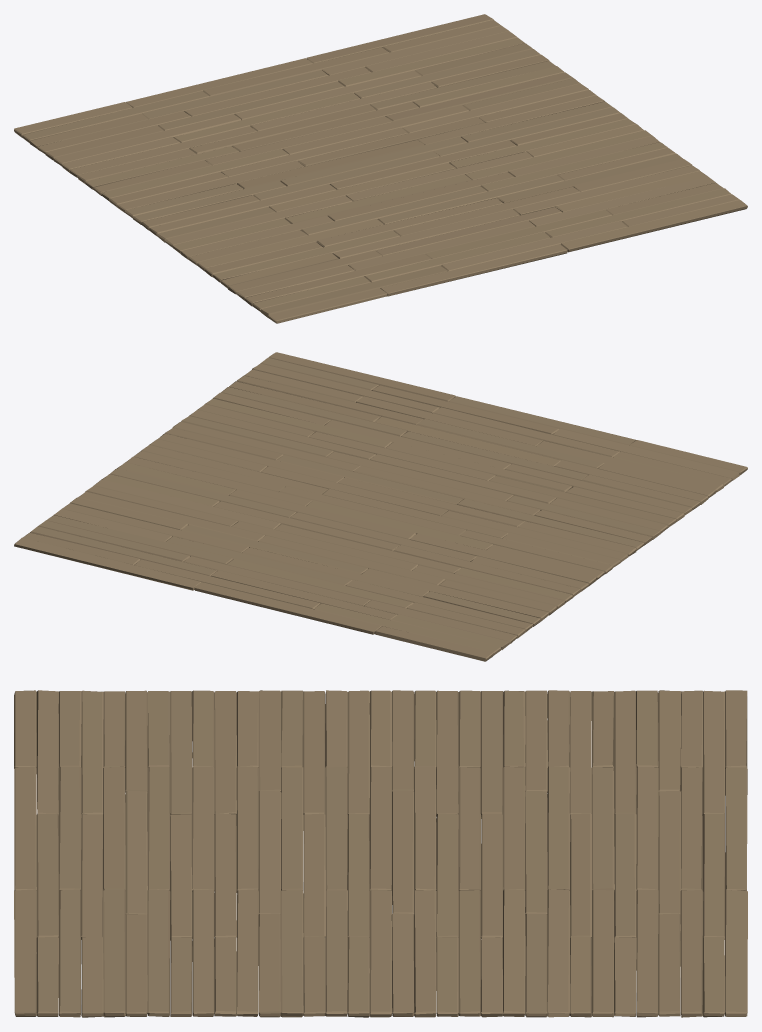
Rendered from floor.glb.
3 renders of one model, top to bottom at view 1: azimuth 30°, elevation 25°; view 2: azimuth 150°, elevation 25°; view 3: azimuth 270°, elevation 25°, orthographic. The views are drawn at different scales.
Visible parts, largest first — view 1: Floor; view 2: Floor; view 3: Floor.
Boxes of the visible parts, x1,y1,x2,y2 form: Floor: [14, 14, 747, 323]; Floor: [14, 352, 747, 661]; Floor: [14, 690, 747, 1017].
Bounding box in the file's own units: 15.79 × 0.1543 × 15.17.
